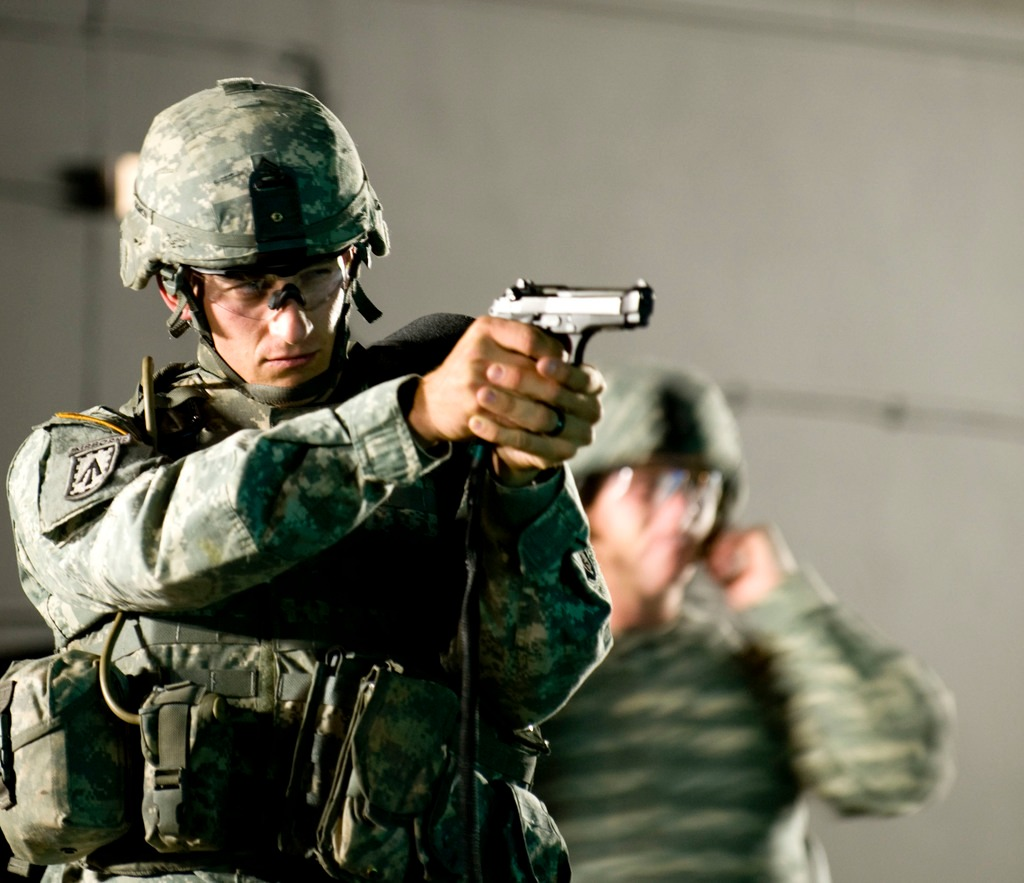gun: (489, 240, 714, 446)
